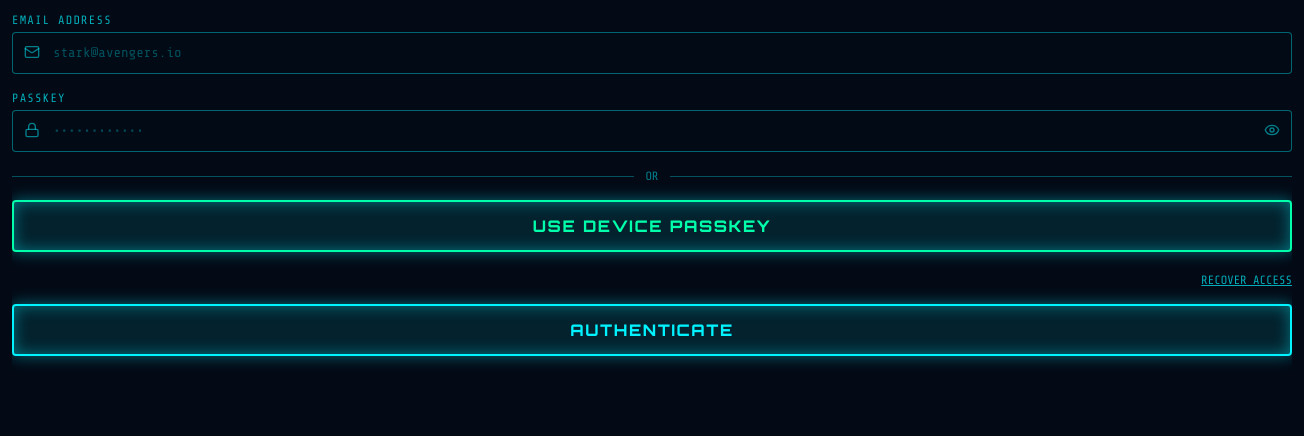
it: PasskeyForm component › shows inline error when submitted without fields
Click the button "AUTHENTICATE" at (652, 330), box x1=12 y1=304 x2=1292 y2=356
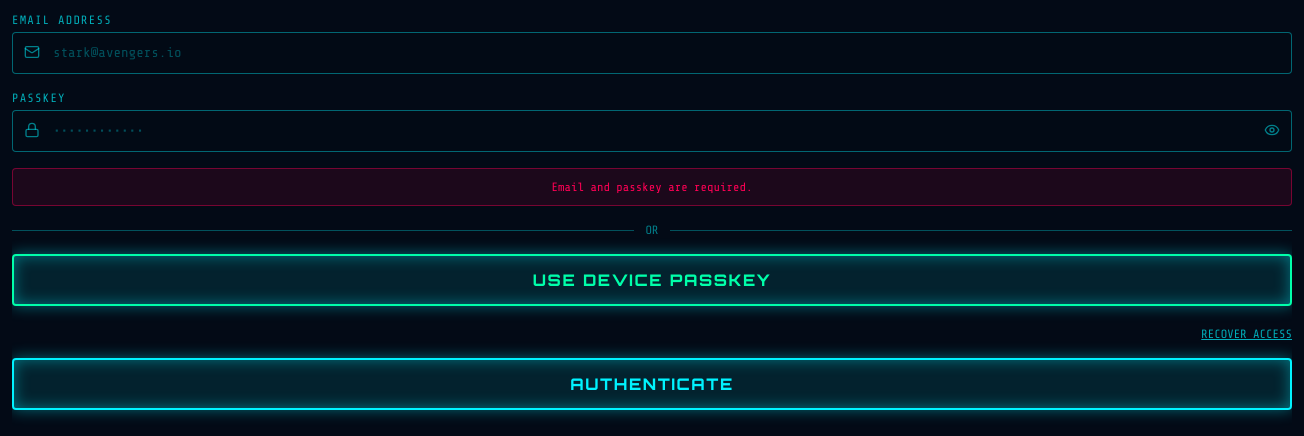
Check: the message "Email and passkey are required." is shown, box x1=12 y1=168 x2=1292 y2=206
